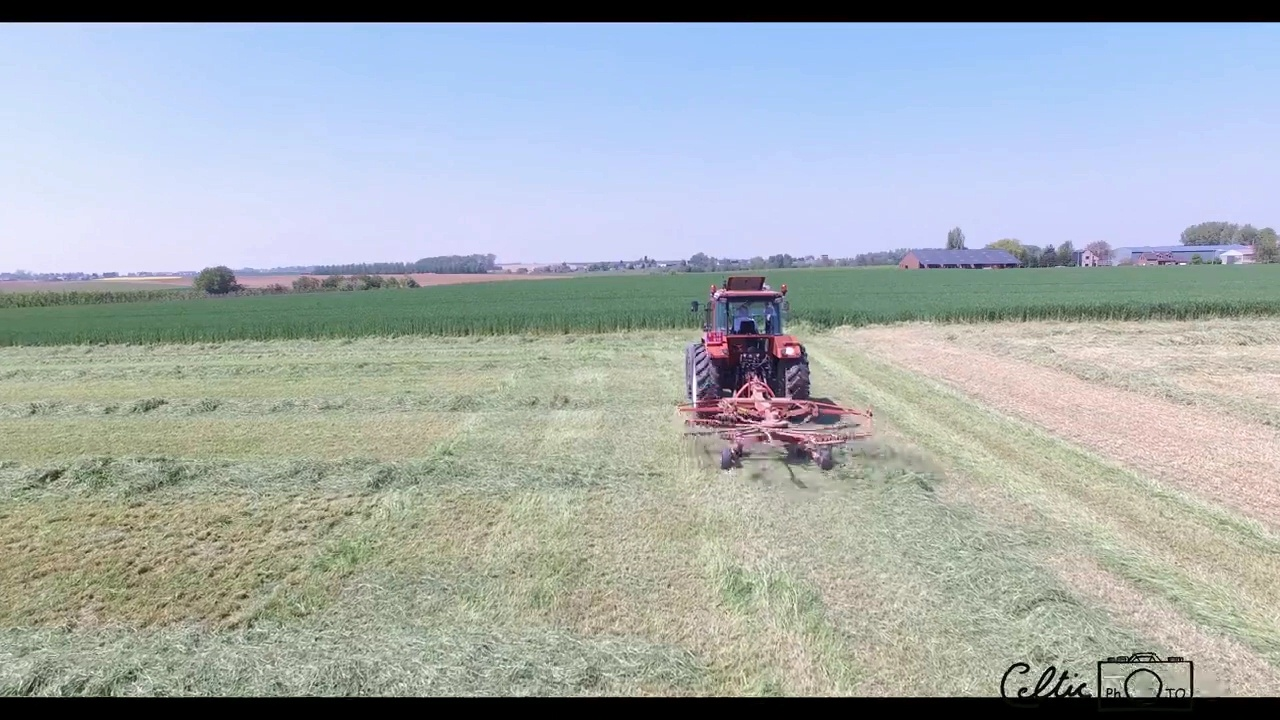traktor: (681, 279, 812, 413)
